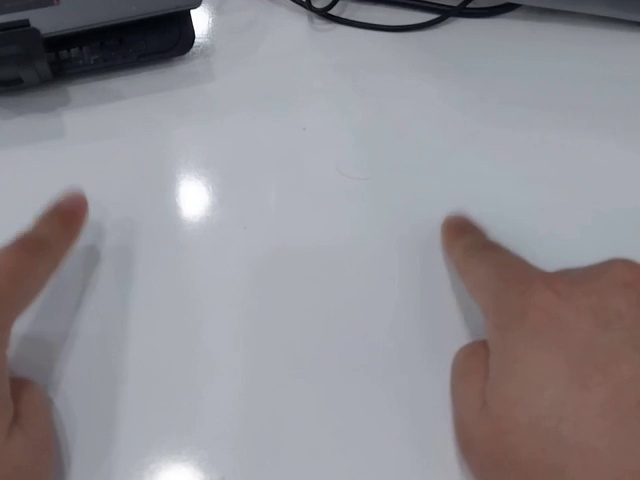fingers: (47, 188, 89, 236), (440, 211, 484, 254)
